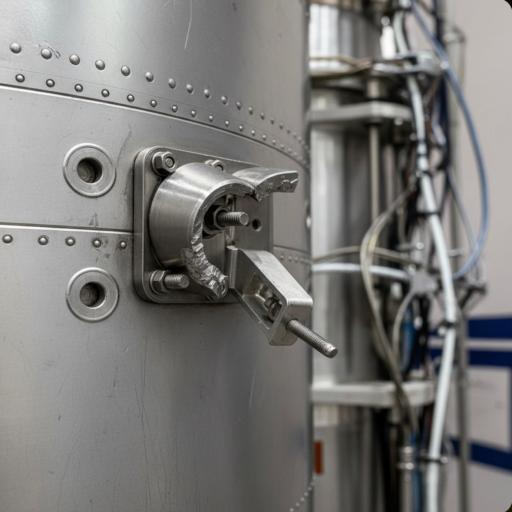fastening deformation: (144, 200, 255, 336)
